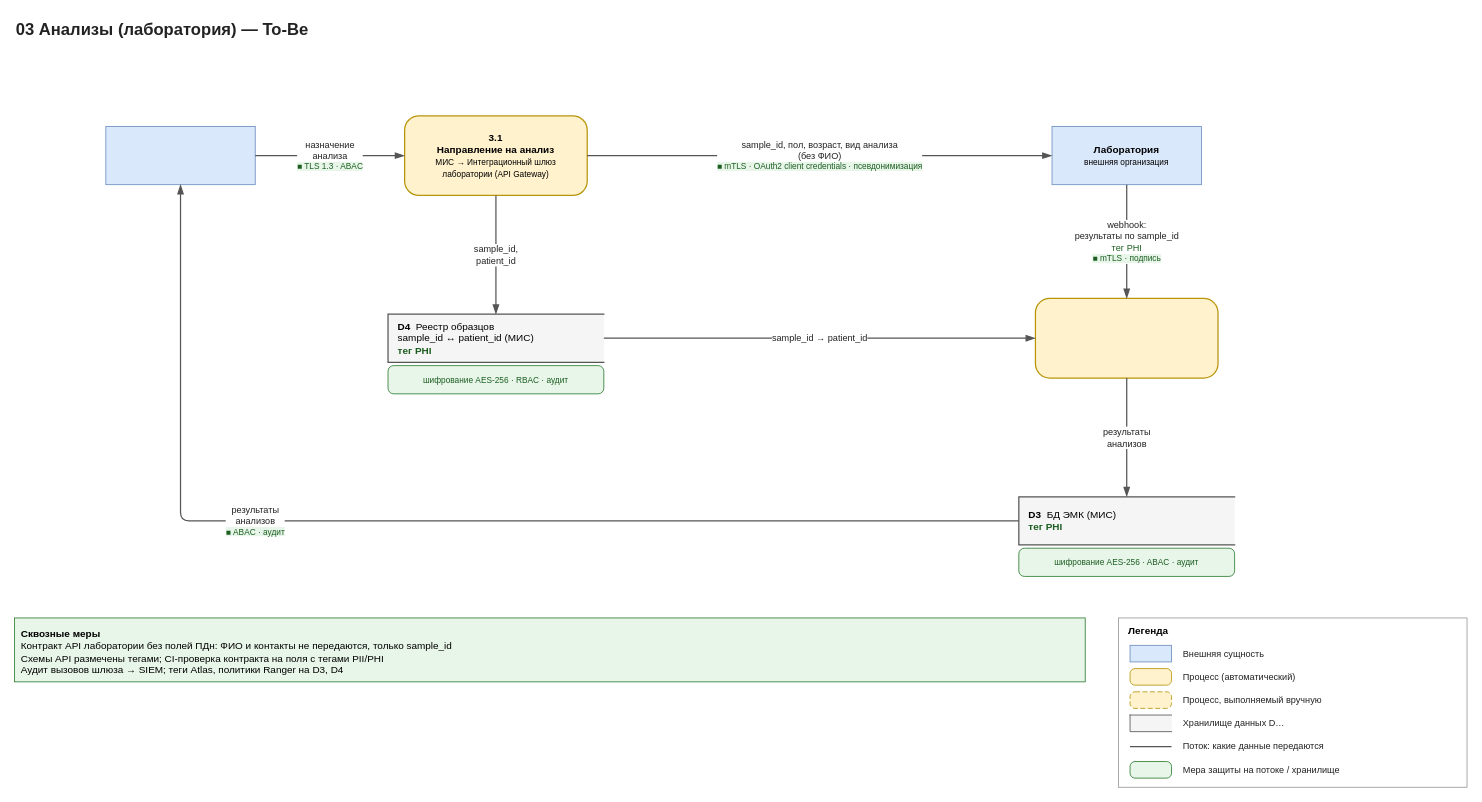
Some shapes in this 1482 by 802 pixel diagram are drawn without their labels. Here are the shapes that lost their labels. From the top down, the centre of each, then its label:
[180,155]: Врач
[1126,337]: 3.2 Приём результатов Интеграционный шлюз → МИС
